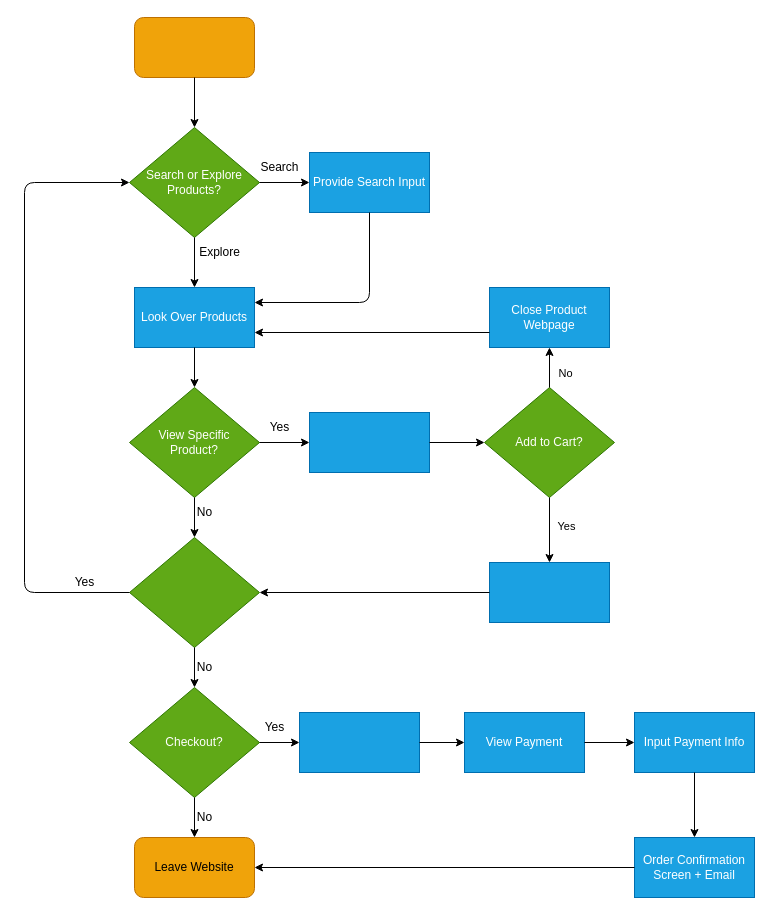
Image size: 772x915. Some labels were removed from this diagram. The shapes that lost their labels are listed below. From the top down, each one's centre as x and y in pixels, then its label:
At point 194,47: "Enter Website".
At point 369,442: "Open Product's Webpage".
At point 194,592: "Continue Shopping?".
At point 549,592: "Add to Cart Confirmation".
At point 359,742: "View Cart".
